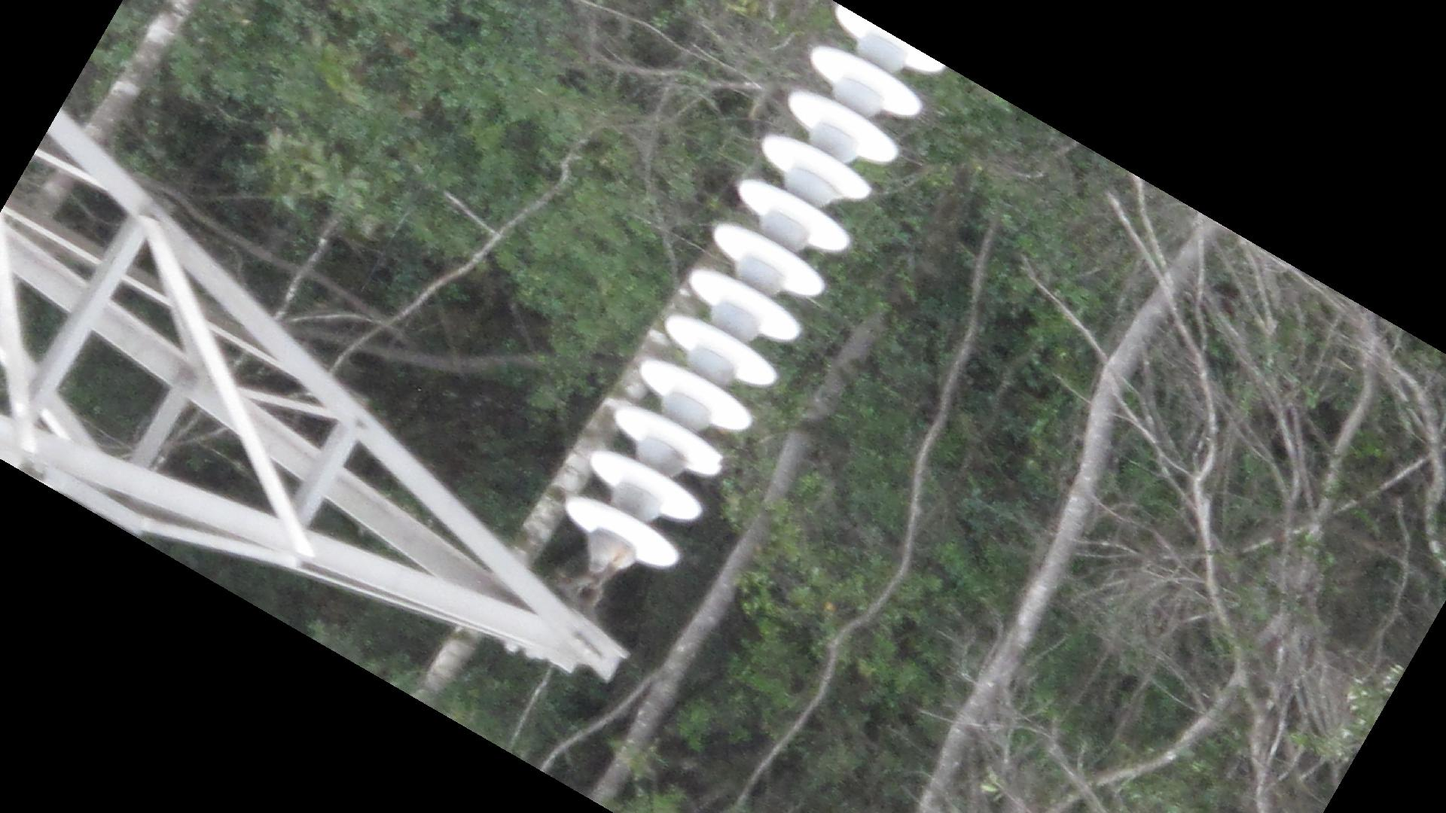insulator: (557, 8, 950, 580)
insulator_breakage: (702, 449, 731, 483)
